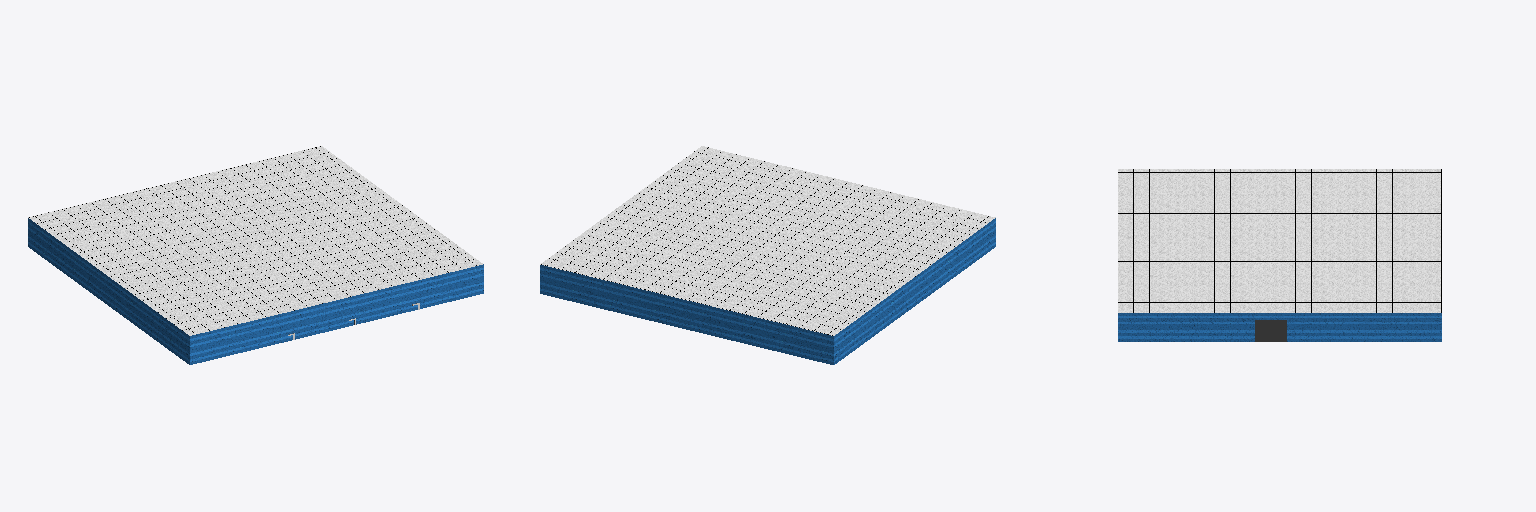
3 renders of one model, left to right at view 1: azimuth 30°, elevation 25°; view 2: azimuth 150°, elevation 25°; view 3: azimuth 270°, elevation 25°, orthographic.
Visible parts, largest first — view 1: Cube; view 2: Cube; view 3: Cube, Cube.003.
Part boxes in pixels (bbox=[...]): Cube: bbox=[28, 146, 483, 364]; Cube: bbox=[540, 146, 995, 364]; Cube: bbox=[1118, 169, 1441, 341]; Cube.003: bbox=[1255, 320, 1286, 341].
Size of the model in its own units: 41.93 by 4.09 by 40.05.
69 materials, 14 textured.